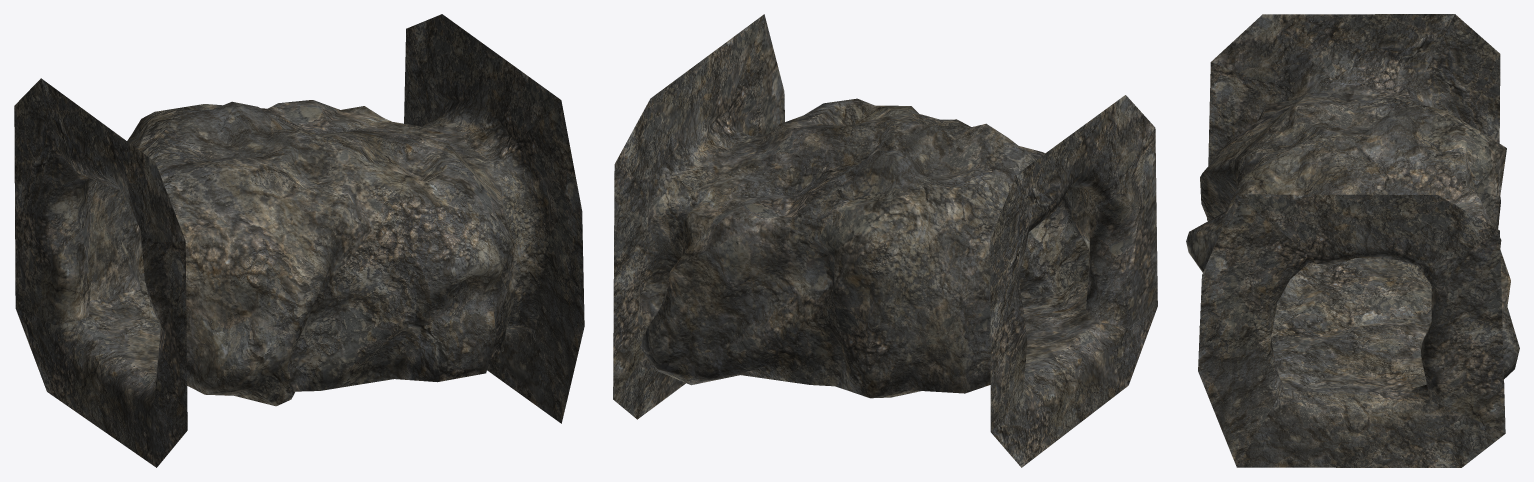
File: Module7.fbx
3 renders of one model, left to right at view 1: azimuth 30°, elevation 25°; view 2: azimuth 150°, elevation 25°; view 3: azimuth 270°, elevation 25°, orthographic. The views are drawn at different scales.
Parts seen in each view (by area): view 1: cave_el7_800_Group27225; view 2: cave_el7_800_Group27225; view 3: cave_el7_800_Group27225.
Boxes of the visible parts, x1,y1,x2,y2 form: cave_el7_800_Group27225: (14, 14, 584, 467); cave_el7_800_Group27225: (613, 14, 1157, 467); cave_el7_800_Group27225: (1186, 14, 1519, 467).
Size of the model in its own units: 10.56 by 8.57 by 8.85.
